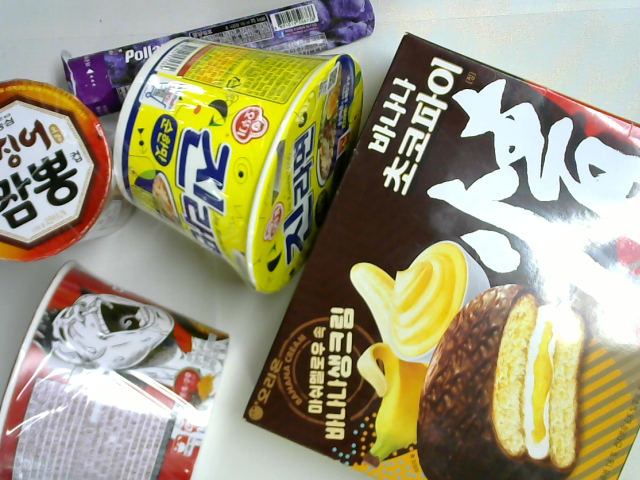Choco_Pie_Banana: (238, 32, 640, 480)
Hejangpul: (3, 259, 235, 480)
Jinlamyeon_Mild_Taste_Large_Cup: (112, 35, 365, 297)
Ojjam: (1, 77, 139, 261)
Polapo_Grape: (57, 1, 377, 126)
